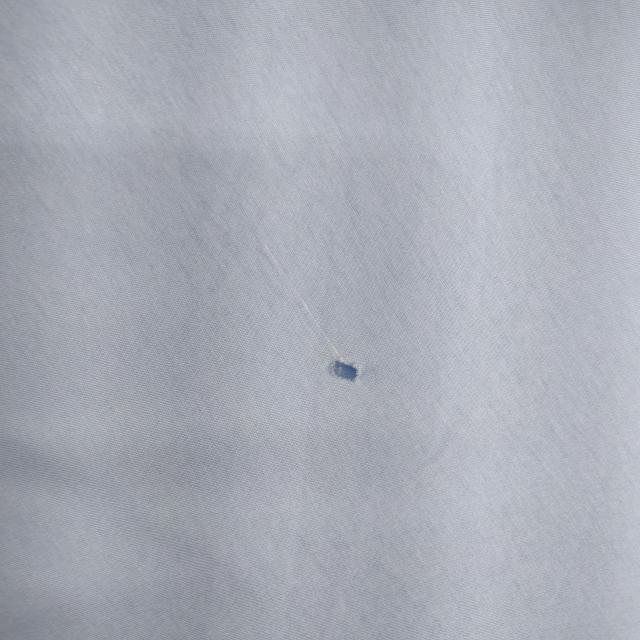other: (295, 330, 382, 410)
